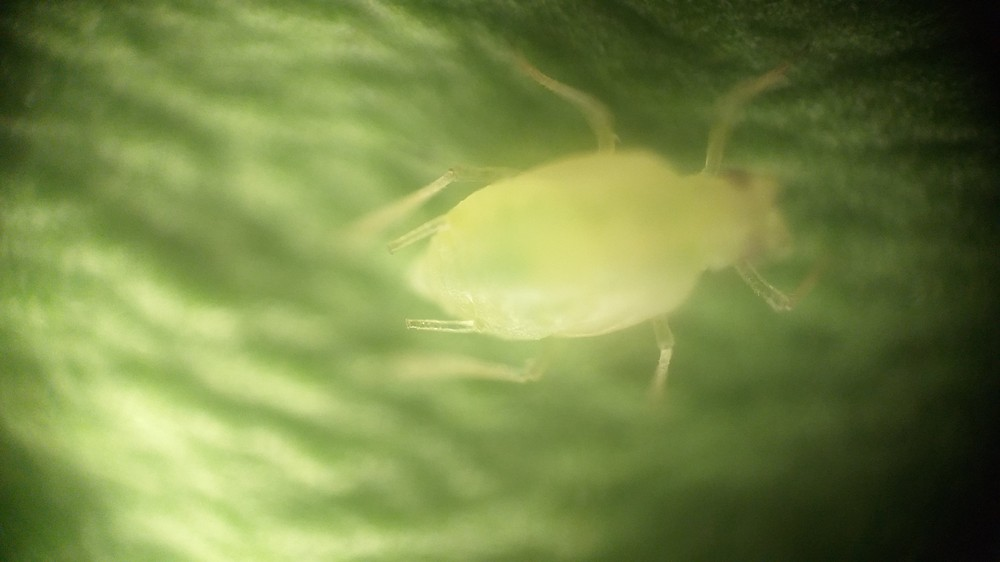Pulgon: (354, 58, 864, 410)
